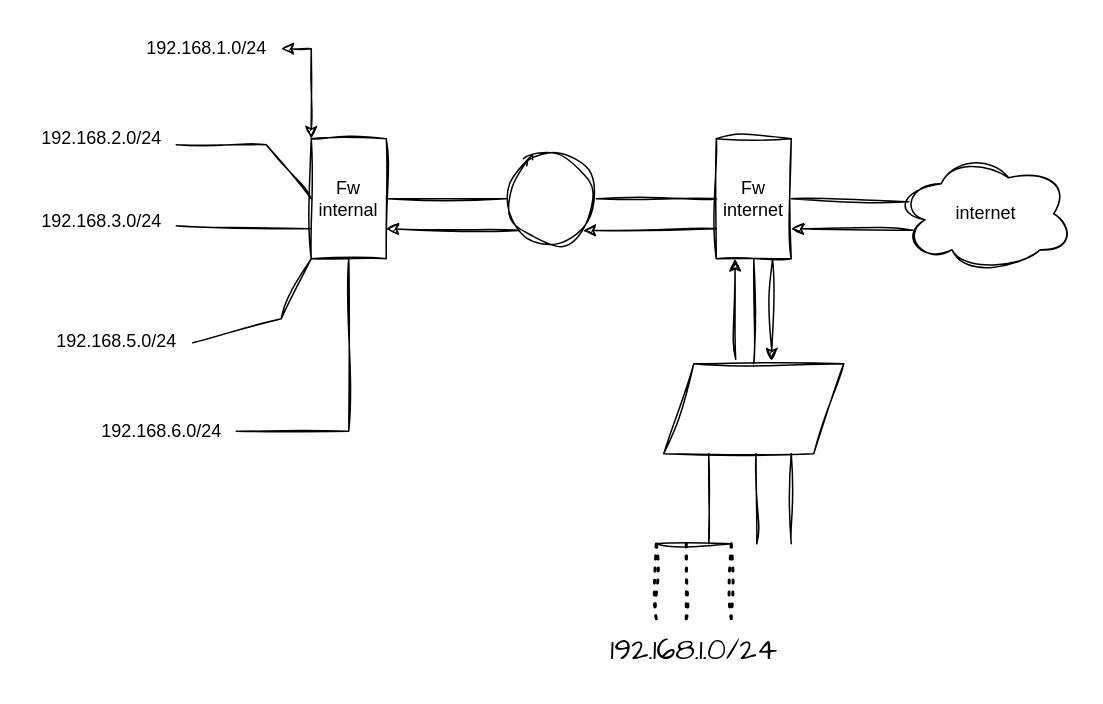
Image size: 1103x704. Some labels were removed from this diagram. The centre of each missing label's shape, as x and y in pixels:
"core" belongs at (x=550, y=198).
"f5 (vitual IP)" belongs at (x=753, y=408).
